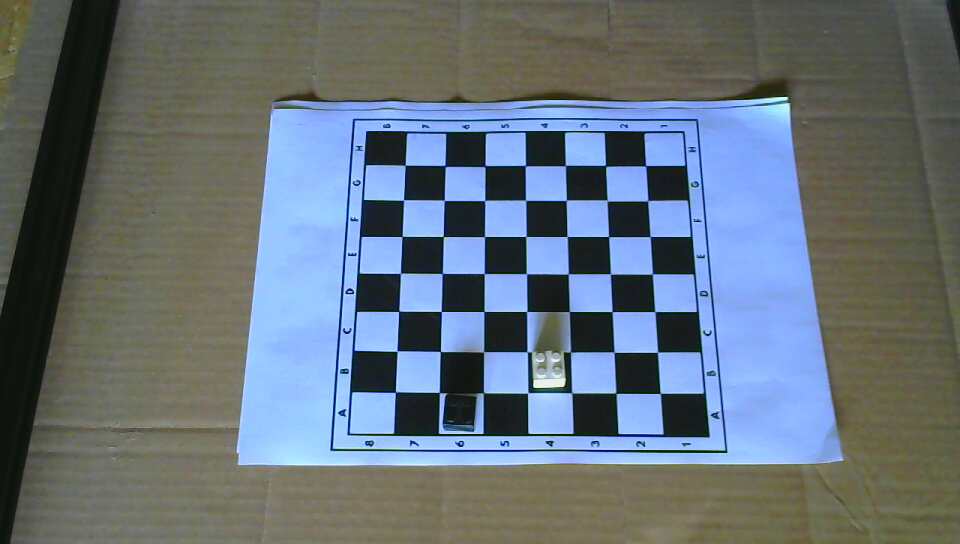bp: (442, 393, 477, 432)
wp: (530, 347, 567, 388)
